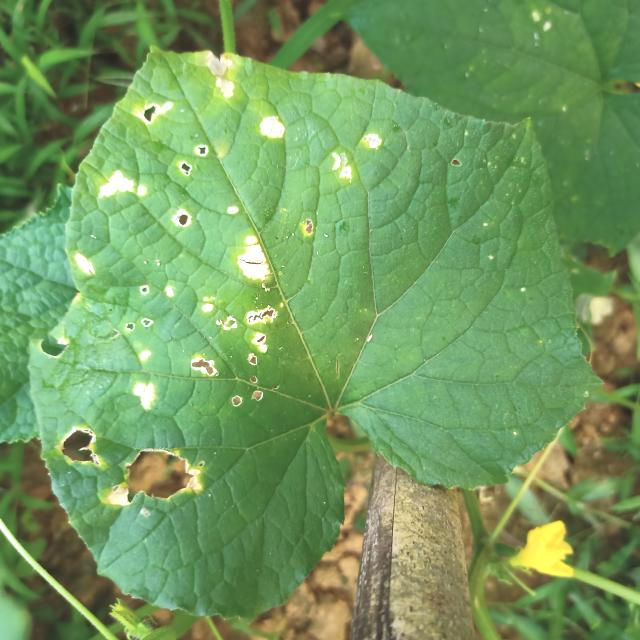disease_cucumber: (189, 296, 278, 408), (100, 444, 214, 514), (331, 129, 384, 182), (52, 418, 108, 468), (231, 232, 277, 283), (93, 168, 151, 200), (204, 52, 236, 98), (175, 142, 212, 177), (138, 97, 176, 126), (131, 378, 158, 414), (260, 112, 286, 140), (74, 248, 99, 274), (171, 206, 193, 229)
